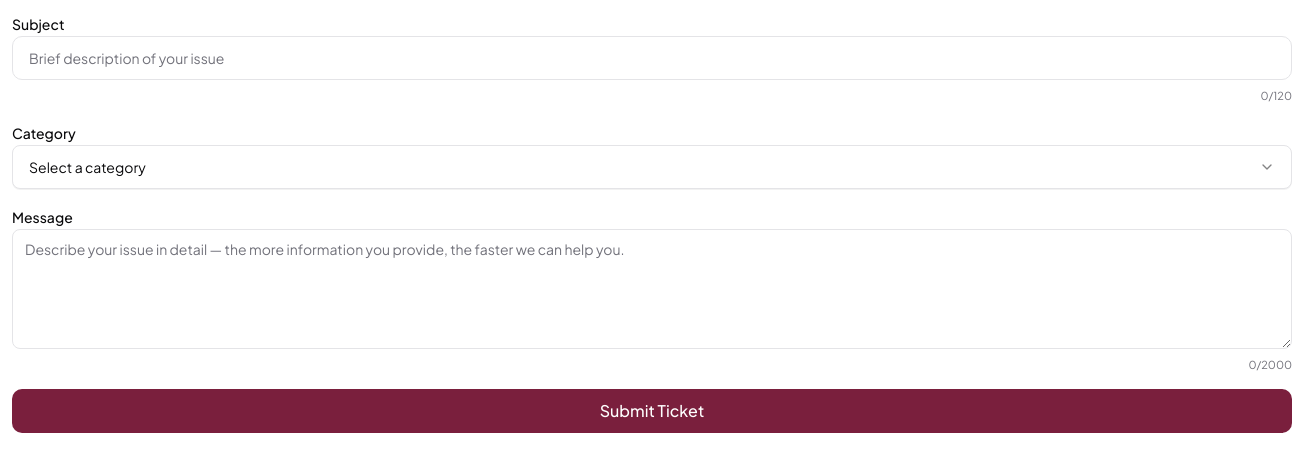
NewTicketForm Component › validates fields on empty submit
Click the button "Submit Ticket" at (652, 411), box [12,389,1292,433]
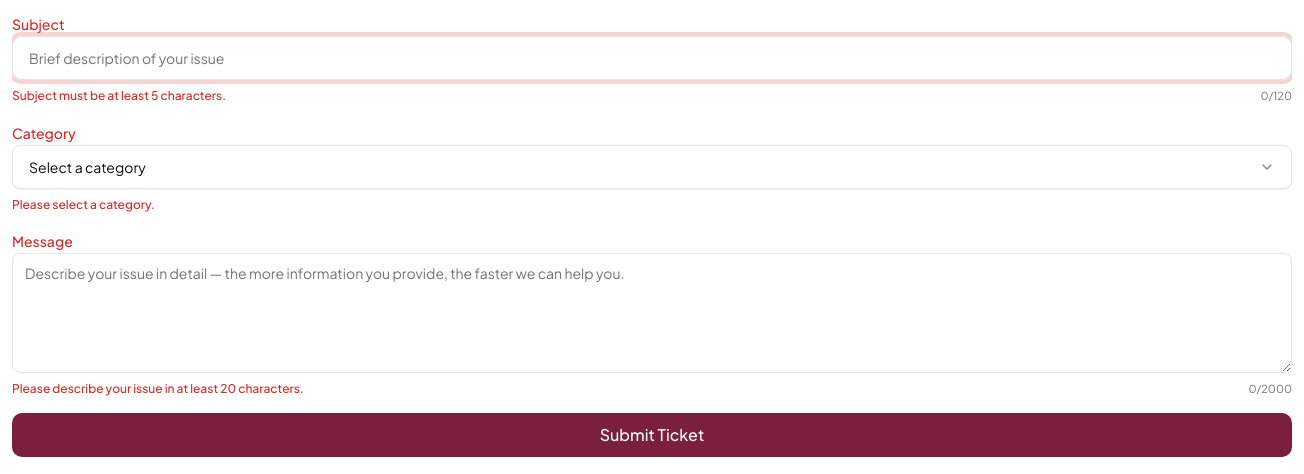
Expected: the text "Subject must be at least 5 characters." is shown, [12,88,226,104]
Expected: the text "Please describe your issue in at least 20 characters." is shown, [12,380,304,397]
